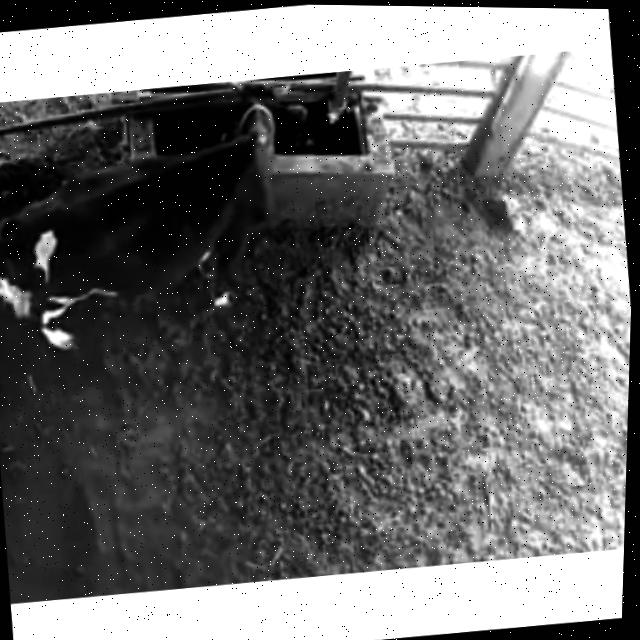drink: (162, 72, 332, 231)
